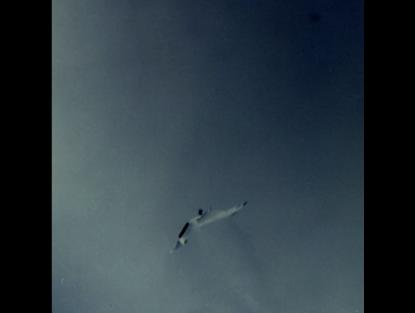U2: (170, 200, 248, 254)
